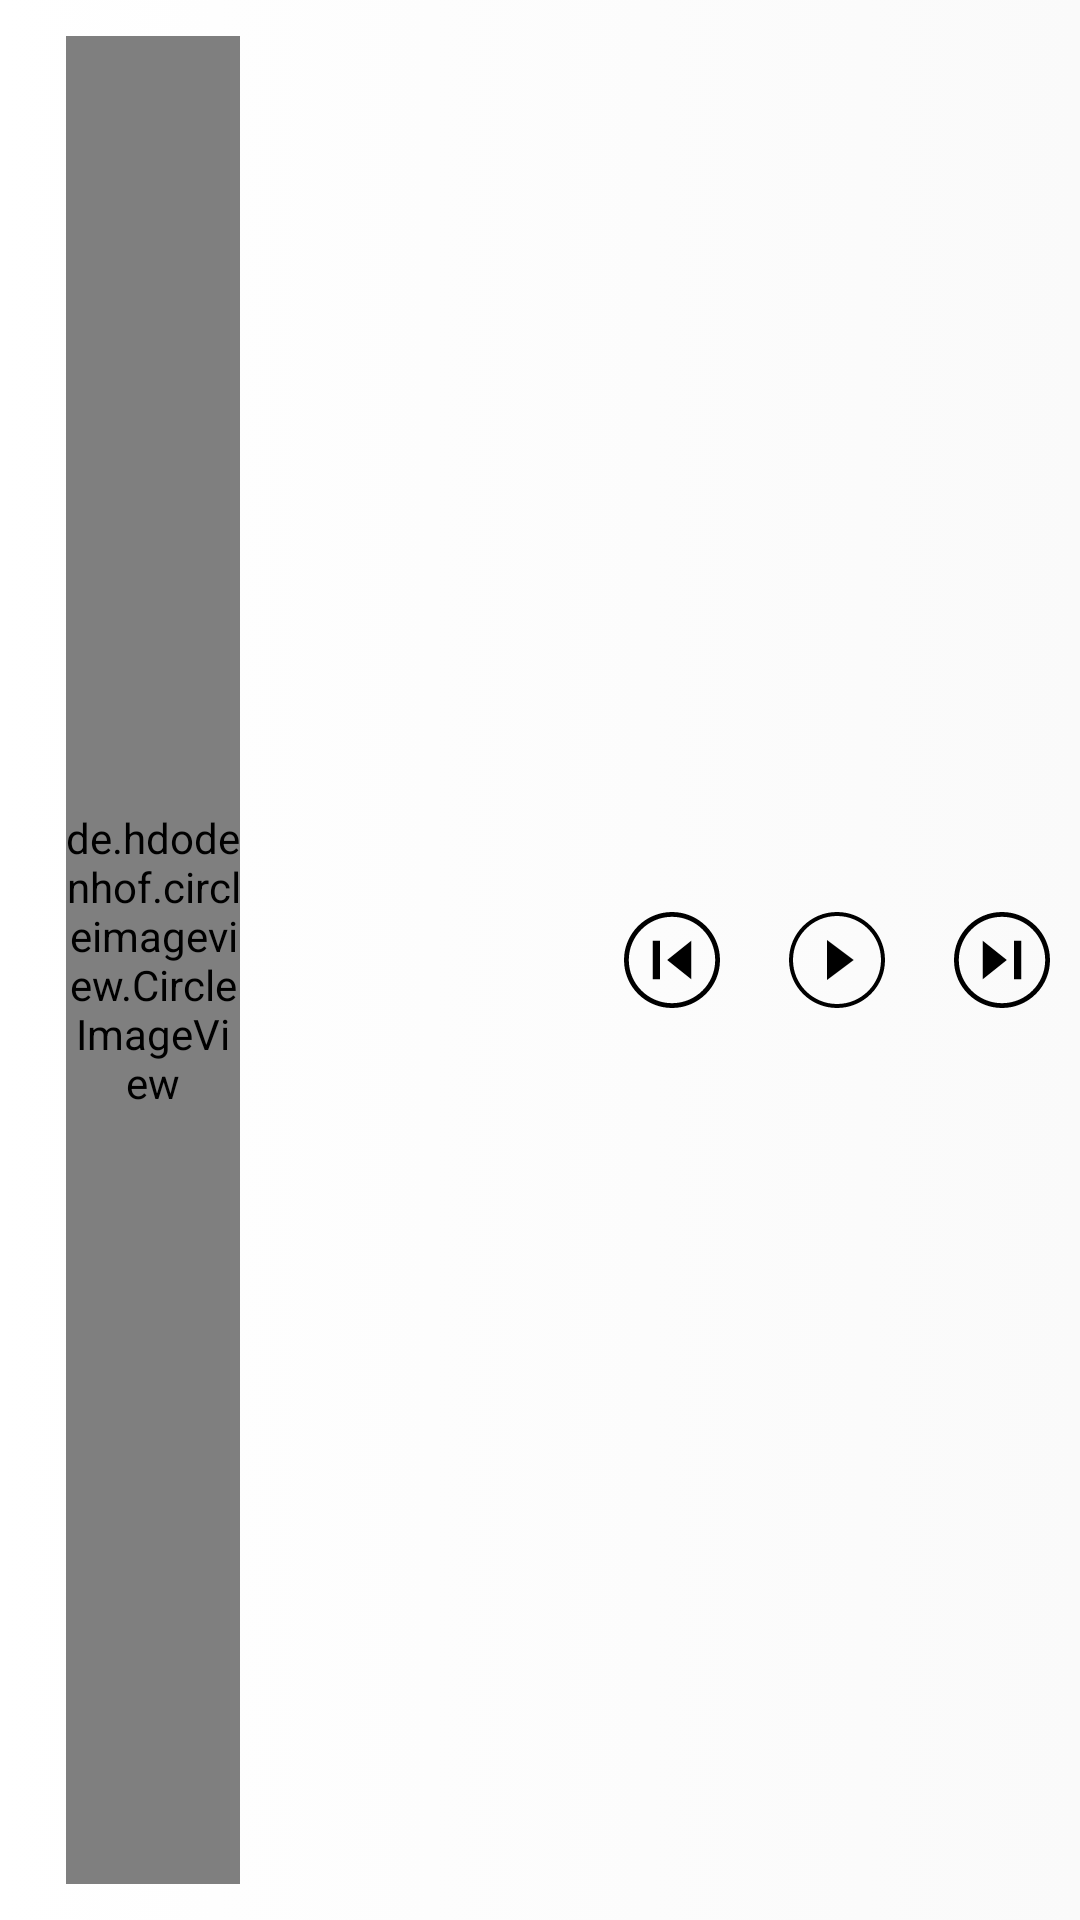

Screen size 1080*1920. Icon name, then its box in pixels as (x1, y1, x2, y2):
next: (954, 912, 1050, 1008)
play: (789, 912, 885, 1008)
previous: (624, 912, 720, 1008)
